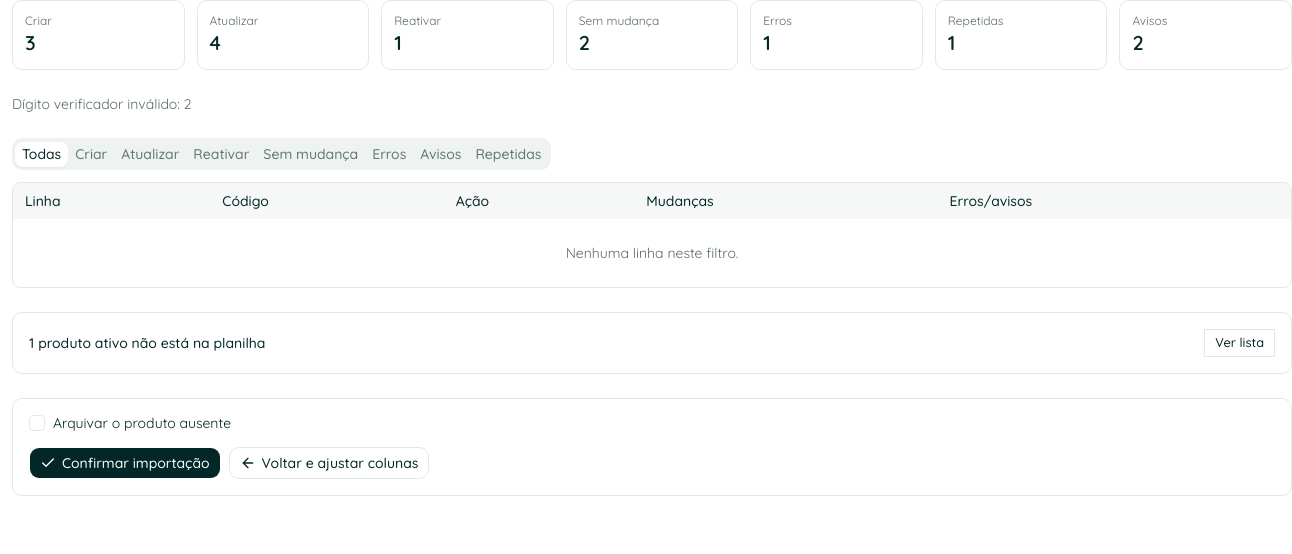
Test: SimulationStep › "Ver lista" mostra os produtos ausentes
Expected: the text "1 produto ativo não está na planilha" is shown, [29,333,265,353]
Click the button "Ver lista" at (1240, 343), box [1204,329,1275,357]
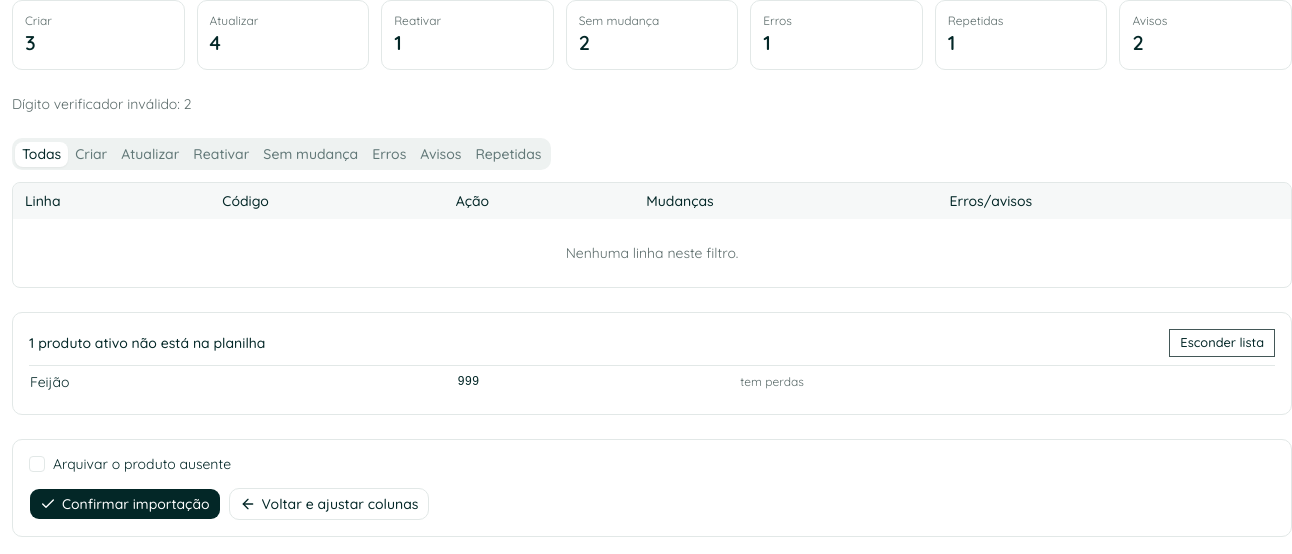
Expected: the text "Feijão" is shown, [29,366,456,398]
Expected: the text "tem perdas" is shown, [739,366,1275,398]
